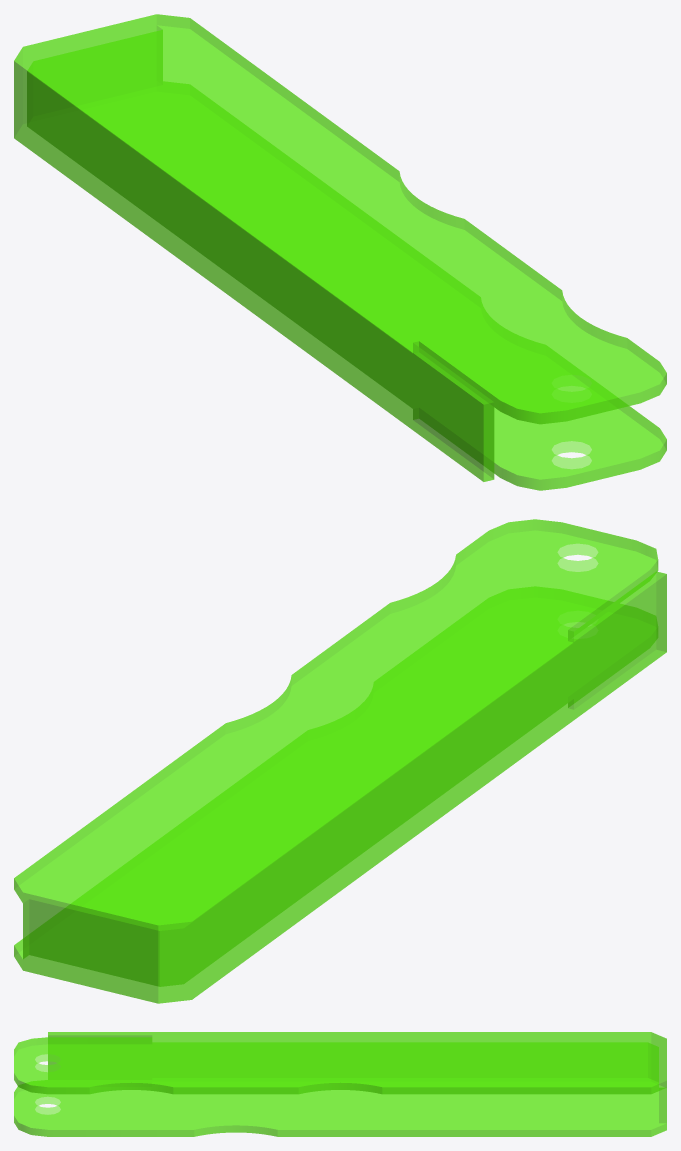
The model's file is original-4.obj.
3 renders of one model, top to bottom at view 1: azimuth 30°, elevation 25°; view 2: azimuth 150°, elevation 25°; view 3: azimuth 270°, elevation 25°, orthographic. The views are drawn at different scales.
Parts seen in each view (by area): view 1: #ID18; view 2: #ID18; view 3: #ID18.
Part boxes in pixels (x1,y1,x2,y2): #ID18: (14, 14, 666, 490); #ID18: (14, 519, 666, 1003); #ID18: (14, 1032, 666, 1136).
Bounding box in the file's own units: 0.204 × 0.0857 × 1.02.
